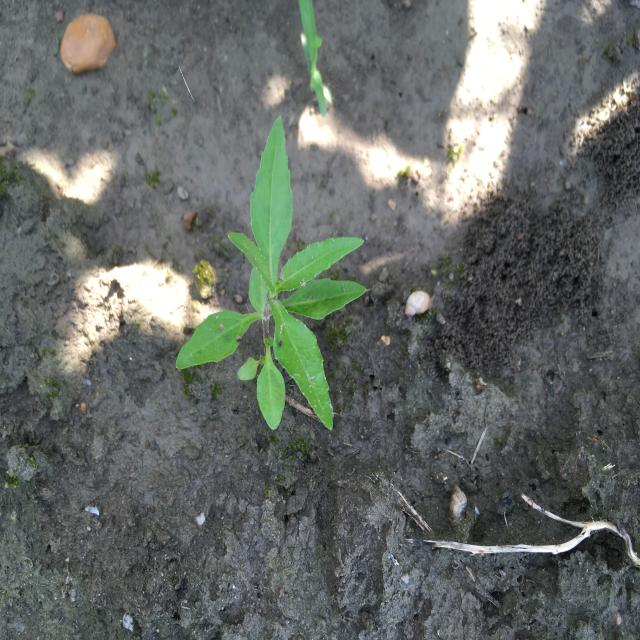Eclipta: (174, 113, 368, 436)
